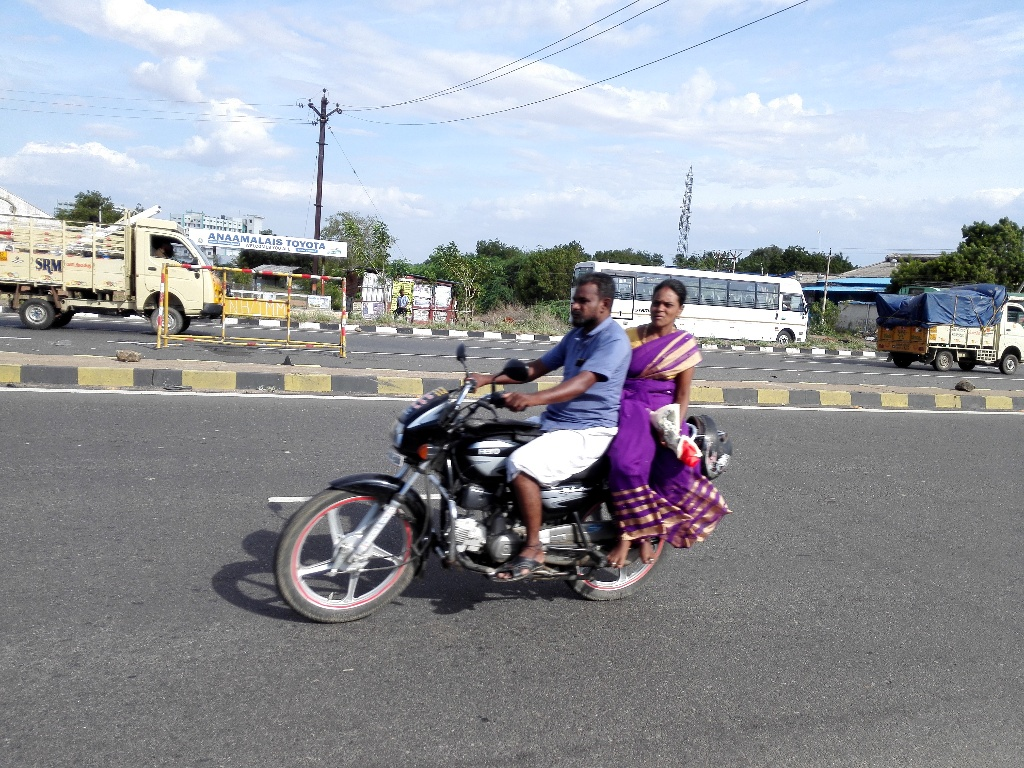biker: (228, 209, 759, 643)
nohelmet: (563, 263, 627, 341), (643, 267, 695, 343)
